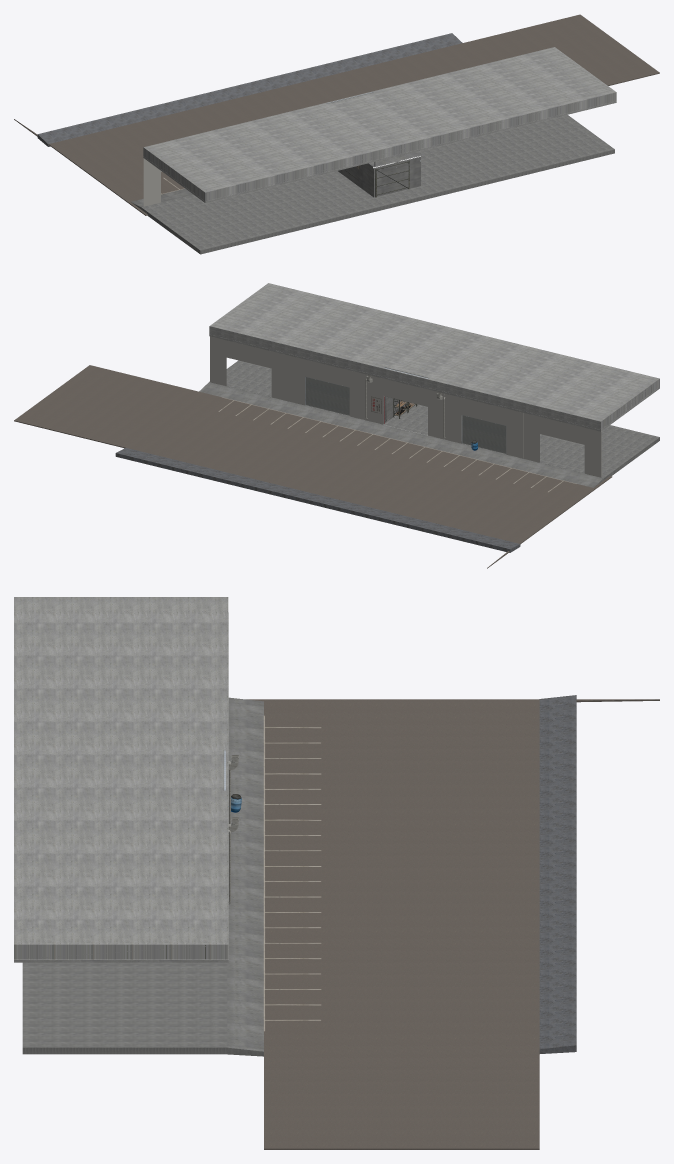
The model's file is garage_lite.glb.
3 renders of one model, top to bottom at view 1: azimuth 30°, elevation 25°; view 2: azimuth 150°, elevation 25°; view 3: azimuth 270°, elevation 25°, orthographic. The views are drawn at different scales.
Visible parts, largest first — view 1: Cube.001, Plane, Plane.001, Plane.011, Cube, Cube.014; view 2: Plane, Cube.001, Cube.014, Plane.001, Plane.002, Plane.011, Plane.024, Plane.022, Plane.006, Cube; view 3: Plane, Cube.001, Plane.001, Plane.011, Plane.002, Plane.006.
Part boxes in pixels (left/top/right/bottom): Cube.001: left=143, top=47, right=616, bottom=202; Plane: left=14, top=14, right=659, bottom=215; Plane.001: left=141, top=115, right=614, bottom=254; Plane.011: left=37, top=33, right=462, bottom=146; Cube: left=338, top=156, right=420, bottom=197; Cube.014: left=143, top=158, right=161, bottom=206; Plane: left=14, top=365, right=612, bottom=568; Cube.001: left=209, top=283, right=659, bottom=431; Cube.014: left=210, top=336, right=601, bottom=477; Plane.001: left=209, top=360, right=659, bottom=479; Plane.002: left=199, top=382, right=603, bottom=487; Plane.011: left=115, top=448, right=520, bottom=552; Plane.024: left=305, top=377, right=349, bottom=415; Plane.022: left=462, top=415, right=505, bottom=453; Plane.006: left=218, top=397, right=576, bottom=492; Cube: left=383, top=394, right=601, bottom=477; Plane: left=246, top=699, right=659, bottom=1149; Cube.001: left=14, top=597, right=228, bottom=962; Plane.001: left=22, top=962, right=227, bottom=1054; Plane.011: left=539, top=695, right=576, bottom=1053; Plane.002: left=227, top=697, right=263, bottom=1056; Plane.006: left=263, top=715, right=321, bottom=1031.
Bounding box in the file's own units: 35.58 × 4.91 × 21.61.
42 materials, 34 textured.
